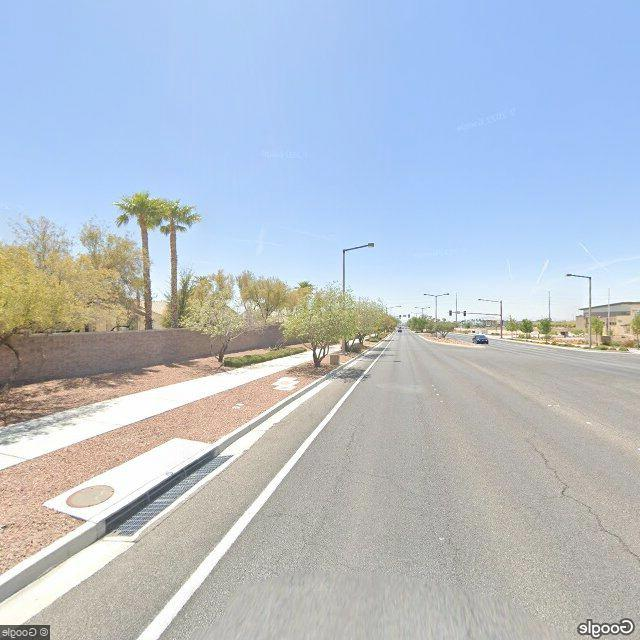pothole: (525, 434, 640, 607)
